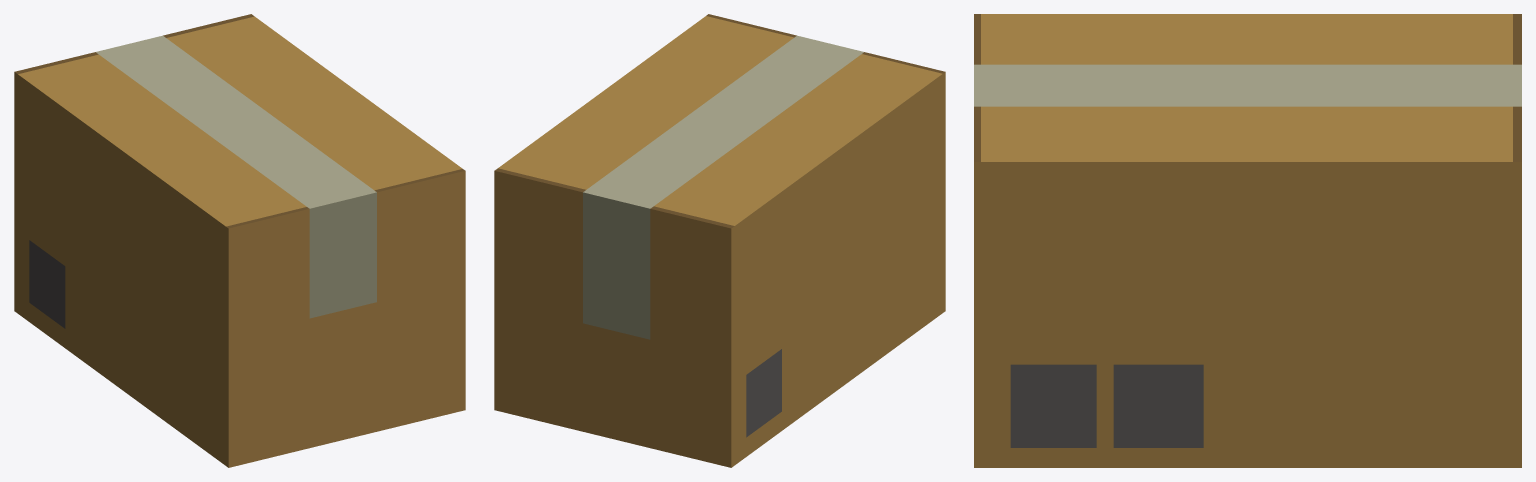
Rendered from SO_CarboardBox_01.fbx.
3 views of the same model, side by side, from view 1: azimuth 30°, elevation 25°; view 2: azimuth 150°, elevation 25°; view 3: azimuth 270°, elevation 25° (orthographic). The views are drawn at different scales.
Visible parts, largest first — view 1: SO_CarboardBox_01; view 2: SO_CarboardBox_01; view 3: SO_CarboardBox_01.
Boxes of the visible parts, <box> form: SO_CarboardBox_01: <box>14,14,465,467</box>; SO_CarboardBox_01: <box>494,14,945,467</box>; SO_CarboardBox_01: <box>974,14,1521,467</box>.
Size of the model in its own units: 0.6621 by 0.6393 by 1.04.
